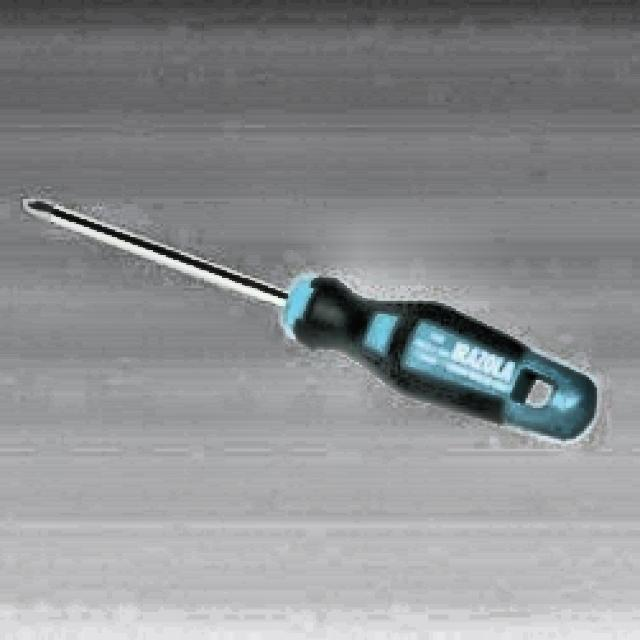screwdriver: (21, 196, 594, 440)
